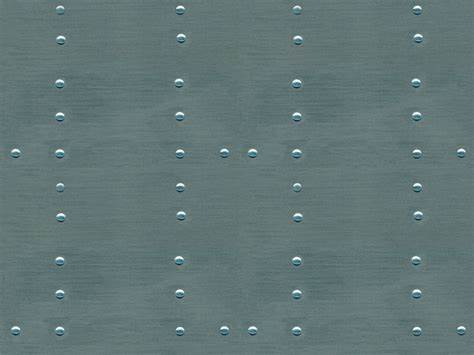rivet: (454, 145, 468, 161), (290, 33, 306, 47), (172, 4, 188, 18), (409, 254, 423, 268), (409, 288, 424, 301), (410, 148, 423, 162), (408, 77, 422, 90), (410, 5, 424, 18), (54, 325, 68, 338), (289, 4, 304, 16), (455, 324, 468, 337), (410, 182, 424, 194), (410, 112, 424, 124), (174, 33, 188, 45), (292, 210, 304, 224), (290, 111, 304, 123), (10, 147, 24, 159), (54, 5, 68, 17), (413, 210, 425, 223), (412, 34, 424, 47), (218, 324, 231, 336), (291, 325, 303, 338), (246, 148, 259, 160), (218, 148, 231, 160), (173, 255, 186, 267), (10, 325, 23, 337), (54, 288, 66, 301), (55, 181, 67, 194), (55, 79, 68, 91), (55, 35, 68, 47), (411, 325, 423, 337), (292, 78, 304, 90), (247, 325, 259, 337), (292, 289, 304, 301), (291, 182, 303, 194), (175, 182, 187, 194), (290, 149, 303, 160), (174, 78, 185, 90), (292, 257, 303, 269), (174, 111, 185, 123), (54, 256, 66, 267), (55, 213, 67, 224), (55, 112, 67, 123), (175, 149, 186, 160), (176, 212, 188, 222), (175, 326, 185, 337), (175, 289, 186, 299), (57, 149, 67, 160)
